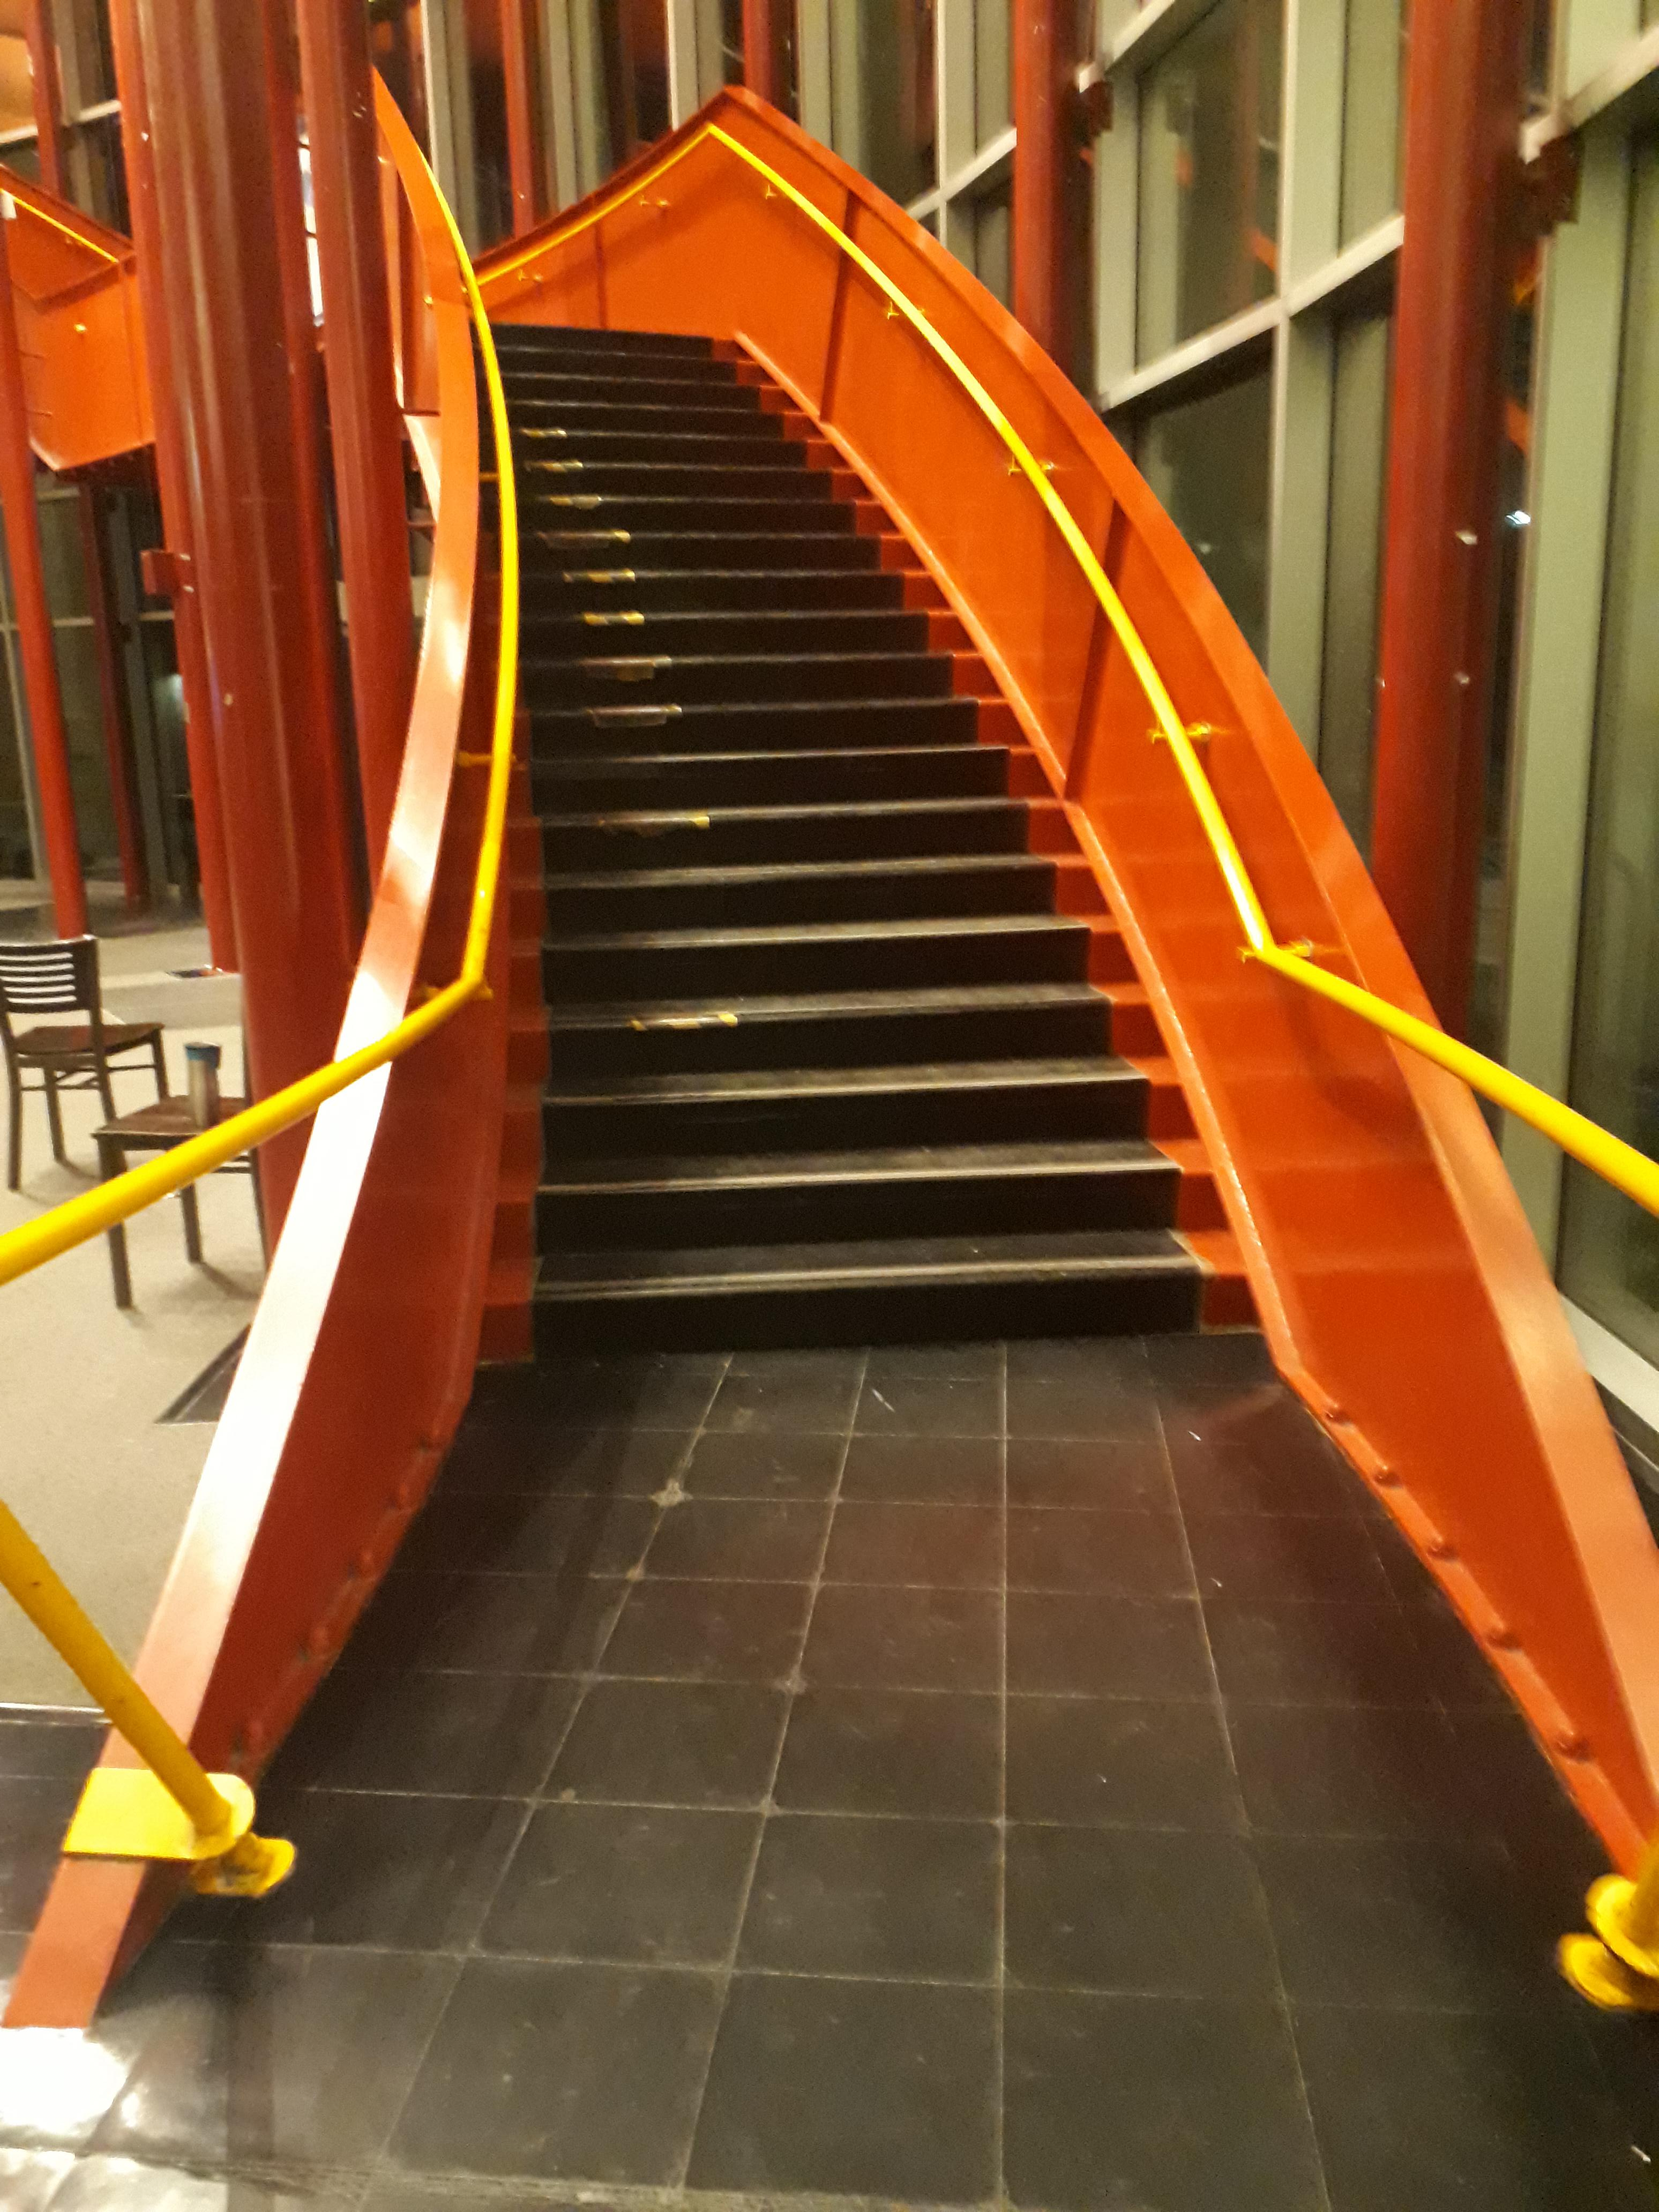stair: (458, 317, 1279, 1364)
